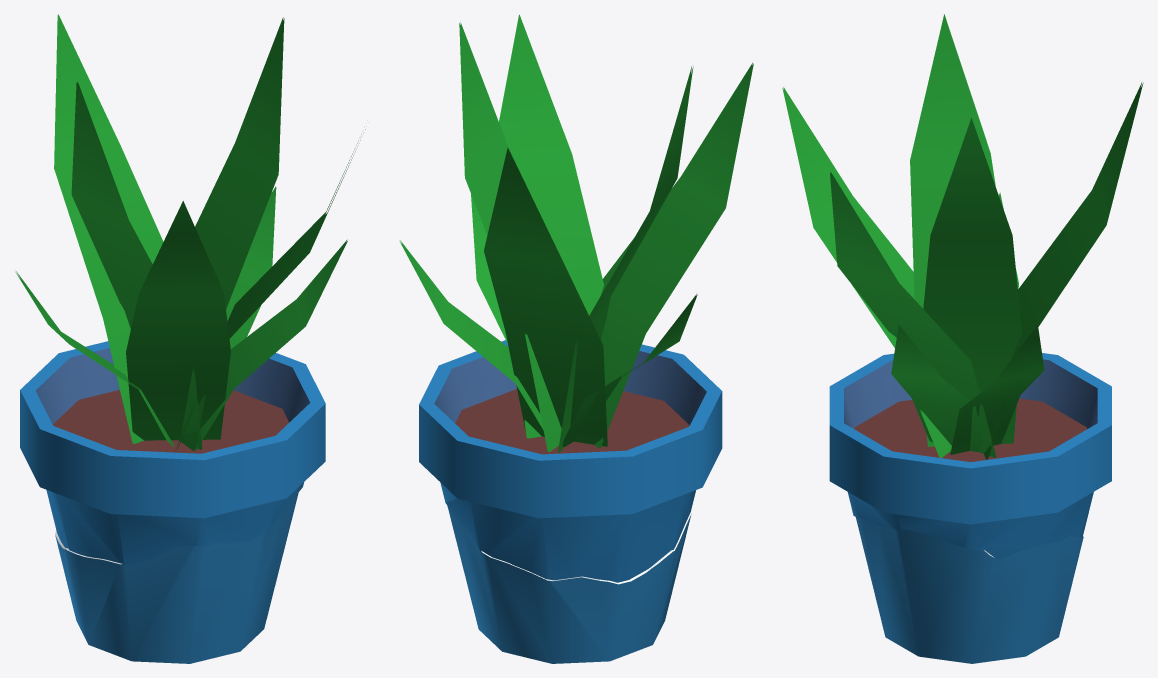
Rendered from flower1.fbx.
3 renders of one model, left to right at view 1: azimuth 30°, elevation 25°; view 2: azimuth 150°, elevation 25°; view 3: azimuth 270°, elevation 25°, orthographic. The views are drawn at different scales.
Parts seen in each view (by area): view 1: polySurface66_FRAC2, polySurface66_FRAC1, polySurface73, polySurface67, polySurface69, polySurface71, polySurface78, polySurface76, polySurface80, polySurface81; view 2: polySurface66_FRAC2, polySurface69, polySurface66_FRAC1, polySurface73, polySurface76, polySurface67, polySurface71, polySurface80, polySurface81, polySurface78; view 3: polySurface66_FRAC2, polySurface66_FRAC1, polySurface67, polySurface71, polySurface76, polySurface69, polySurface73, polySurface78, polySurface80.
Part boxes in pixels (left/top/right/bottom): polySurface66_FRAC2: left=20, top=341, right=325, bottom=565; polySurface66_FRAC1: left=55, top=493, right=298, bottom=663; polySurface73: left=126, top=201, right=230, bottom=440; polySurface67: left=179, top=17, right=284, bottom=450; polySurface69: left=54, top=14, right=163, bottom=443; polySurface71: left=71, top=81, right=202, bottom=449; polySurface78: left=195, top=239, right=347, bottom=449; polySurface76: left=175, top=129, right=365, bottom=451; polySurface80: left=226, top=186, right=276, bottom=348; polySurface81: left=15, top=271, right=174, bottom=446; polySurface66_FRAC2: left=419, top=340, right=722, bottom=582; polySurface69: left=484, top=147, right=607, bottom=446; polySurface66_FRAC1: left=447, top=506, right=691, bottom=663; polySurface73: left=594, top=62, right=753, bottom=447; polySurface76: left=499, top=14, right=603, bottom=438; polySurface67: left=459, top=22, right=561, bottom=452; polySurface71: left=558, top=66, right=693, bottom=452; polySurface80: left=399, top=240, right=543, bottom=429; polySurface81: left=562, top=294, right=697, bottom=446; polySurface78: left=471, top=194, right=507, bottom=343; polySurface66_FRAC2: left=829, top=353, right=1111, bottom=559; polySurface66_FRAC1: left=855, top=517, right=1083, bottom=663; polySurface67: left=923, top=118, right=1022, bottom=443; polySurface71: left=910, top=14, right=995, bottom=446; polySurface76: left=830, top=172, right=996, bottom=457; polySurface69: left=984, top=82, right=1143, bottom=459; polySurface73: left=782, top=87, right=951, bottom=457; polySurface78: left=891, top=325, right=982, bottom=451; polySurface80: left=950, top=325, right=1044, bottom=454.
Size of the model in its own units: 115 by 226 by 132.
Materials: 1 (1 with a texture image).
